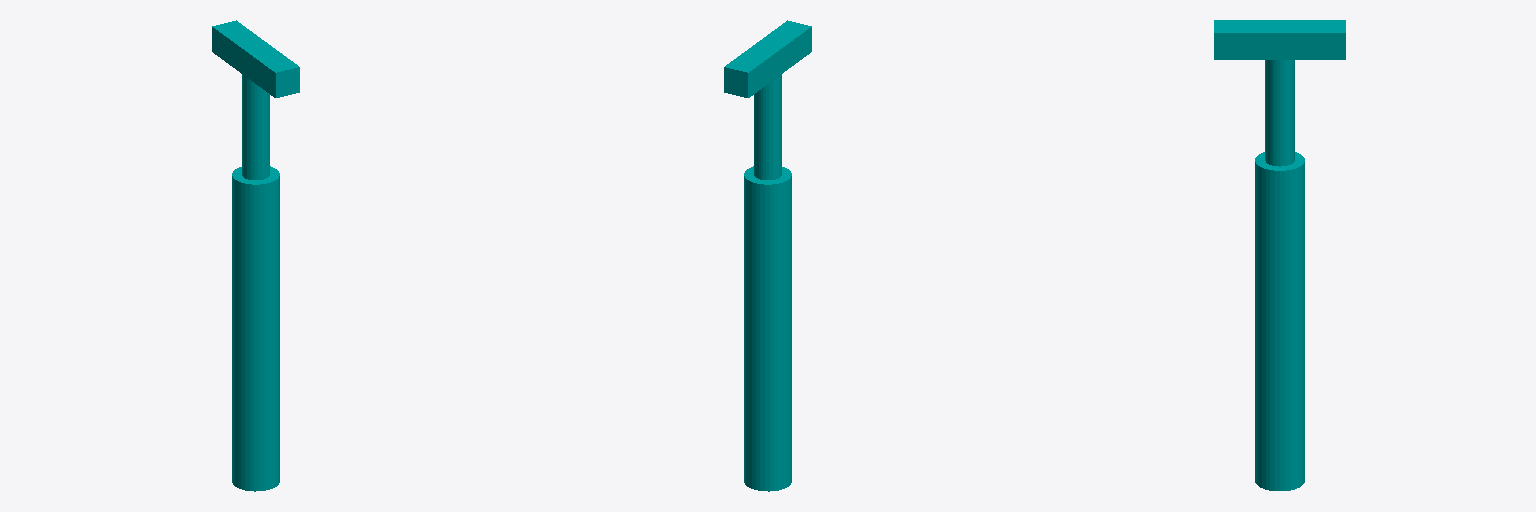
URDF robot description (ur5):
<?xml version="1.0" ?>
<!-- =================================================================================== -->
<!-- |    This document was autogenerated by xacro from my_ur5_joint_limited_robot.urdf.xacro | -->
<!-- |    EDITING THIS FILE BY HAND IS NOT RECOMMENDED                                 | -->
<!-- =================================================================================== -->
<robot name="ur5" xmlns:xacro="http://wiki.ros.org/xacro">
  <gazebo>
    <plugin filename="libgazebo_ros_control.so" name="ros_control">
      <!--robotNamespace>/</robotNamespace-->
      <!--robotSimType>gazebo_ros_control/DefaultRobotHWSim</robotSimType-->
    </plugin>
    <!--
    <plugin name="gazebo_ros_power_monitor_controller" filename="libgazebo_ros_power_monitor.so">
      <alwaysOn>true</alwaysOn>
      <updateRate>1.0</updateRate>
      <timeout>5</timeout>
      <powerStateTopic>power_state</powerStateTopic>
      <powerStateRate>10.0</powerStateRate>
      <fullChargeCapacity>87.78</fullChargeCapacity>     
      <dischargeRate>-474</dischargeRate>
      <chargeRate>525</chargeRate>
      <dischargeVoltage>15.52</dischargeVoltage>
      <chargeVoltage>16.41</chargeVoltage>
    </plugin>
-->
  </gazebo>

  <mujoco>
        <compiler 
        meshdir="./ur5/collision" 
        balanceinertia="true" 
        discardvisual="false" />
  </mujoco>

  <!-- measured from model -->
  <!--property name="shoulder_height" value="0.089159" /-->
  <!--property name="shoulder_offset" value="0.13585" /-->
  <!-- shoulder_offset - elbow_offset + wrist_1_length = 0.10915 -->
  <!--property name="upper_arm_length" value="0.42500" /-->
  <!--property name="elbow_offset" value="0.1197" /-->
  <!-- CAD measured -->
  <!--property name="forearm_length" value="0.39225" /-->
  <!--property name="wrist_1_length" value="0.093" /-->
  <!-- CAD measured -->
  <!--property name="wrist_2_length" value="0.09465" /-->
  <!-- In CAD this distance is 0.930, but in the spec it is 0.09465 -->
  <!--property name="wrist_3_length" value="0.0823" /-->
  <!-- manually measured -->
  <link name="base_link">
    <visual>
      <geometry>
        <mesh filename="./ur5/visual/base.dae"/>
      </geometry>
      <material name="LightGrey">
        <color rgba="0.7 0.7 0.7 1.0"/>
      </material>
    </visual>
    <collision>
      <geometry>
        <mesh filename="./ur5/collision/base.stl"/>
      </geometry>
    </collision>
    <inertial>
      <mass value="4.0"/>
      <origin rpy="0 0 0" xyz="0.0 0.0 0.0"/>
      <inertia ixx="0.00443333156" ixy="0.0" ixz="0.0" iyy="0.00443333156" iyz="0.0" izz="0.0072"/>
    </inertial>
  </link>
  <joint name="shoulder_pan_joint" type="revolute">
    <parent link="base_link"/>
    <child link="shoulder_link"/>
    <origin rpy="0.0 0.0 0.0" xyz="0.0 0.0 0.089159"/>
    <axis xyz="0 0 1"/>
    <limit effort="150.0" lower="-3.14159265359" upper="3.14159265359" velocity="3.15"/>
    <dynamics damping="0.0" friction="0.0"/>
  </joint>
  <link name="shoulder_link">
    <visual>
      <geometry>
        <mesh filename="./ur5/visual/shoulder.dae"/>
      </geometry>
      <material name="LightGrey">
        <color rgba="0.7 0.7 0.7 1.0"/>
      </material>
    </visual>
    <collision>
      <geometry>
        <mesh filename="./ur5/collision/shoulder.stl"/>
      </geometry>
    </collision>
    <inertial>
      <mass value="3.7"/>
      <origin rpy="0 0 0" xyz="0.0 0.0 0.0"/>
      <inertia ixx="0.010267495893" ixy="0.0" ixz="0.0" iyy="0.010267495893" iyz="0.0" izz="0.00666"/>
    </inertial>
  </link>
  <joint name="shoulder_lift_joint" type="revolute">
    <parent link="shoulder_link"/>
    <child link="upper_arm_link"/>
    <origin rpy="0.0 1.57079632679 0.0" xyz="0.0 0.13585 0.0"/>
    <axis xyz="0 1 0"/>
    <limit effort="150.0" lower="-3.14159265359" upper="3.14159265359" velocity="3.15"/>
    <dynamics damping="0.0" friction="0.0"/>
  </joint>
  <link name="upper_arm_link">
    <visual>
      <geometry>
        <mesh filename="./ur5/visual/upperarm.dae"/>
      </geometry>
      <material name="LightGrey">
        <color rgba="0.7 0.7 0.7 1.0"/>
      </material>
    </visual>
    <collision>
      <geometry>
        <mesh filename="./ur5/collision/upperarm.stl"/>
      </geometry>
    </collision>
    <inertial>
      <mass value="8.393"/>
      <origin rpy="0 0 0" xyz="0.0 0.0 0.28"/>
      <inertia ixx="0.22689067591" ixy="0.0" ixz="0.0" iyy="0.22689067591" iyz="0.0" izz="0.0151074"/>
    </inertial>
  </link>
  <joint name="elbow_joint" type="revolute">
    <parent link="upper_arm_link"/>
    <child link="forearm_link"/>
    <origin rpy="0.0 0.0 0.0" xyz="0.0 -0.1197 0.425"/>
    <axis xyz="0 1 0"/>
    <limit effort="150.0" lower="-3.14159265359" upper="3.14159265359" velocity="3.15"/>
    <dynamics damping="0.0" friction="0.0"/>
  </joint>
  <link name="forearm_link">
    <visual>
      <geometry>
        <mesh filename="./ur5/visual/forearm.dae"/>
      </geometry>
      <material name="LightGrey">
        <color rgba="0.7 0.7 0.7 1.0"/>
      </material>
    </visual>
    <collision>
      <geometry>
        <mesh filename="./ur5/collision/forearm.stl"/>
      </geometry>
    </collision>
    <inertial>
      <mass value="2.275"/>
      <origin rpy="0 0 0" xyz="0.0 0.0 0.196125"/>
      <inertia ixx="0.0312167910289" ixy="0.0" ixz="0.0" iyy="0.0312167910289" iyz="0.0" izz="0.004095"/>
    </inertial>
  </link>
  <joint name="wrist_1_joint" type="revolute">
    <parent link="forearm_link"/>
    <child link="wrist_1_link"/>
    <origin rpy="0.0 1.57079632679 0.0" xyz="0.0 0.0 0.39225"/>
    <axis xyz="0 1 0"/>
    <limit effort="28.0" lower="-3.14159265359" upper="3.14159265359" velocity="3.2"/>
    <dynamics damping="0.0" friction="0.0"/>
  </joint>
  <link name="wrist_1_link">
    <visual>
      <geometry>
        <mesh filename="./ur5/visual/wrist1.dae"/>
      </geometry>
      <material name="LightGrey">
        <color rgba="0.7 0.7 0.7 1.0"/>
      </material>
    </visual>
    <collision>
      <geometry>
        <mesh filename="./ur5/collision/wrist1.stl"/>
      </geometry>
    </collision>
    <inertial>
      <mass value="1.219"/>
      <origin rpy="0 0 0" xyz="0.0 0.093 0.0"/>
      <inertia ixx="0.00255989897604" ixy="0.0" ixz="0.0" iyy="0.00255989897604" iyz="0.0" izz="0.0021942"/>
    </inertial>
  </link>
  <joint name="wrist_2_joint" type="revolute">
    <parent link="wrist_1_link"/>
    <child link="wrist_2_link"/>
    <origin rpy="0.0 0.0 0.0" xyz="0.0 0.093 0.0"/>
    <axis xyz="0 0 1"/>
    <limit effort="28.0" lower="-3.14159265359" upper="3.14159265359" velocity="3.2"/>
    <dynamics damping="0.0" friction="0.0"/>
  </joint>
  <link name="wrist_2_link">
    <visual>
      <geometry>
        <mesh filename="./ur5/visual/wrist2.dae"/>
      </geometry>
      <material name="LightGrey">
        <color rgba="0.7 0.7 0.7 1.0"/>
      </material>
    </visual>
    <collision>
      <geometry>
        <mesh filename="./ur5/collision/wrist2.stl"/>
      </geometry>
    </collision>
    <inertial>
      <mass value="1.219"/>
      <origin rpy="0 0 0" xyz="0.0 0.0 0.09465"/>
      <inertia ixx="0.00255989897604" ixy="0.0" ixz="0.0" iyy="0.00255989897604" iyz="0.0" izz="0.0021942"/>
    </inertial>
  </link>
  <joint name="wrist_3_joint" type="revolute">
    <parent link="wrist_2_link"/>
    <child link="wrist_3_link"/>
    <origin rpy="0.0 0.0 0.0" xyz="0.0 0.0 0.09465"/>
    <axis xyz="0 1 0"/>
    <limit effort="28.0" lower="-3.14159265359" upper="3.14159265359" velocity="3.2"/>
    <dynamics damping="0.0" friction="0.0"/>
  </joint>
  <link name="wrist_3_link">
    <visual>
      <geometry>
        <mesh filename="./ur5/visual/wrist3.dae"/>
      </geometry>
      <material name="LightGrey">
        <color rgba="0.7 0.7 0.7 1.0"/>
      </material>
    </visual>
    <collision>
      <geometry>
        <mesh filename="./ur5/collision/wrist3.stl"/>
      </geometry>
    </collision>
    <inertial>
      <mass value="0.1879"/>
      <origin rpy="1.57079632679 0 0" xyz="0.0 0.06505 0.0"/>
      <inertia ixx="8.46958911216e-05" ixy="0.0" ixz="0.0" iyy="8.46958911216e-05" iyz="0.0" izz="0.0001321171875"/>
    </inertial>
  </link>
  <joint name="ee_fixed_joint" type="fixed">
    <parent link="wrist_3_link"/>
    <child link="ee_link"/>
    <origin rpy="0.0 0.0 1.57079632679" xyz="0.0 0.0823 0.0"/>
  </joint>
  <link name="ee_link">
    <collision>
      <geometry>
        <box size="0.01 0.01 0.01"/>
      </geometry>
      <origin rpy="0 0 0" xyz="-0.01 0 0"/>
    </collision>
  </link>
  <transmission name="shoulder_pan_trans">
    <type>transmission_interface/SimpleTransmission</type>
    <joint name="shoulder_pan_joint">
      <hardwareInterface>hardware_interface/PositionJointInterface</hardwareInterface>
    </joint>
    <actuator name="shoulder_pan_motor">
      <mechanicalReduction>1</mechanicalReduction>
    </actuator>
  </transmission>
  <transmission name="shoulder_lift_trans">
    <type>transmission_interface/SimpleTransmission</type>
    <joint name="shoulder_lift_joint">
      <hardwareInterface>hardware_interface/PositionJointInterface</hardwareInterface>
    </joint>
    <actuator name="shoulder_lift_motor">
      <mechanicalReduction>1</mechanicalReduction>
    </actuator>
  </transmission>
  <transmission name="elbow_trans">
    <type>transmission_interface/SimpleTransmission</type>
    <joint name="elbow_joint">
      <hardwareInterface>hardware_interface/PositionJointInterface</hardwareInterface>
    </joint>
    <actuator name="elbow_motor">
      <mechanicalReduction>1</mechanicalReduction>
    </actuator>
  </transmission>
  <transmission name="wrist_1_trans">
    <type>transmission_interface/SimpleTransmission</type>
    <joint name="wrist_1_joint">
      <hardwareInterface>hardware_interface/PositionJointInterface</hardwareInterface>
    </joint>
    <actuator name="wrist_1_motor">
      <mechanicalReduction>1</mechanicalReduction>
    </actuator>
  </transmission>
  <transmission name="wrist_2_trans">
    <type>transmission_interface/SimpleTransmission</type>
    <joint name="wrist_2_joint">
      <hardwareInterface>hardware_interface/PositionJointInterface</hardwareInterface>
    </joint>
    <actuator name="wrist_2_motor">
      <mechanicalReduction>1</mechanicalReduction>
    </actuator>
  </transmission>
  <transmission name="wrist_3_trans">
    <type>transmission_interface/SimpleTransmission</type>
    <joint name="wrist_3_joint">
      <hardwareInterface>hardware_interface/PositionJointInterface</hardwareInterface>
    </joint>
    <actuator name="wrist_3_motor">
      <mechanicalReduction>1</mechanicalReduction>
    </actuator>
  </transmission>
  <gazebo reference="shoulder_link">
    <selfCollide>true</selfCollide>
  </gazebo>
  <gazebo reference="upper_arm_link">
    <selfCollide>true</selfCollide>
  </gazebo>
  <gazebo reference="forearm_link">
    <selfCollide>true</selfCollide>
  </gazebo>
  <gazebo reference="wrist_1_link">
    <selfCollide>true</selfCollide>
  </gazebo>
  <gazebo reference="wrist_3_link">
    <selfCollide>true</selfCollide>
  </gazebo>
  <gazebo reference="wrist_2_link">
    <selfCollide>true</selfCollide>
  </gazebo>
  <gazebo reference="ee_link">
    <selfCollide>true</selfCollide>
  </gazebo>
  <!-- ROS base_link to UR 'Base' Coordinates transform -->
  <link name="base"/>
  <joint name="base_link-base_fixed_joint" type="fixed">
    <!-- NOTE: this rotation is only needed as long as base_link itself is
                 not corrected wrt the real robot (ie: rotated over 180
                 degrees)
      -->
    <origin rpy="0 0 -3.14159265359" xyz="0 0 0"/>
    <parent link="base_link"/>
    <child link="base"/>
  </joint>
  <!-- Frame coincident with all-zeros TCP on UR controller -->
  <link name="tool0"/>
  <joint name="wrist_3_link-tool0_fixed_joint" type="fixed">
    <origin rpy="-1.57079632679 0 0" xyz="0 0.0823 0"/>
    <parent link="wrist_3_link"/>
    <child link="tool0"/>
  </joint>
  <link name="world"/>
  <link name="base_support_cylinder_link">
    <visual>
      <geometry>
        <cylinder length="1.2" radius="0.085"/>
      </geometry>
      <material name="LightGrey">
        <color rgba="0 0.7 0.7 1.0"/>
      </material>
    </visual>
    <collision>
      <geometry>
        <cylinder length="1.2" radius="0.05"/>
      </geometry>
    </collision>
  </link>
  <link name="base_support_cylinder_link_2">
    <visual>
      <geometry>
        <cylinder length="0.4" radius="0.05"/>
      </geometry>
      <material name="LightGrey">
        <color rgba="0 0.7 0.7 1.0"/>
      </material>
    </visual>
    <collision>
      <geometry>
        <cylinder length="0.4" radius="0.05"/>
      </geometry>
    </collision>
  </link>
  <link name="base_support_box_link">
    <visual>
      <geometry>
        <box size="0.1 0.45 0.1"/>
      </geometry>
      <material name="LightGrey">
        <color rgba="0 0.7 0.7 1.0"/>
      </material>
    </visual>
    <collision>
      <geometry>
        <box size="0.1 0.40 0.1"/>
      </geometry>
    </collision>
  </link>
  <link name="world_link">

  </link>
  <joint name="world_joint" type="fixed">
    <parent link="world"/>
    <child link="base_support_cylinder_link"/>
    <origin rpy="0.0 0.0 0.0" xyz="0.0 0.0 0.6"/>
  </joint>
  <joint name="cylinde_cylinder_link" type="fixed">
    <parent link="base_support_cylinder_link"/>
    <child link="base_support_cylinder_link_2"/>
    <origin rpy="0.0 0.0 0.0" xyz="0.0 0.0 0.8"/>
  </joint>
  <joint name="box_cylinder_link" type="fixed">
    <parent link="base_support_cylinder_link_2"/>
    <child link="base_support_box_link"/>
    <origin rpy="0.0 0.0 0.0" xyz="0.0 0.0 0.25"/>
  </joint>
  <joint name="base_world_joint" type="fixed">
    <parent link="base_support_box_link"/>
    <child link="world_link"/>
    <origin rpy="0.0 0.0 -1.5708" xyz="0.0 0.25 0.0"/>
  </joint>
  <joint name="base_support_joint_L" type="fixed">
    <parent link="world_link"/>
    <child link="base_link"/>
    <origin rpy="-0.61548 -2.61799 0.955316" xyz="0.0 0.0 0.0"/>
  </joint>
</robot>

--- What the picture shows (computed from the rendered views, not written in the file) ---
Views: 3 orthographic renders of the robot side by side, from view 1: azimuth 30°, elevation 25°; view 2: azimuth 150°, elevation 25°; view 3: azimuth 270°, elevation 25°.
Model ur5 with 15 links and 14 joints (6 revolute, 8 fixed), rooted at world, posed every joint at zero.
Visible links, largest first — view 1: base_support_cylinder_link, base_support_box_link, base_support_cylinder_link_2; view 2: base_support_cylinder_link, base_support_box_link, base_support_cylinder_link_2; view 3: base_support_cylinder_link, base_support_box_link, base_support_cylinder_link_2.
Link boxes in pixels (x1,y1,x2,y2): base_support_cylinder_link: [232, 166, 279, 491]; base_support_box_link: [212, 20, 299, 97]; base_support_cylinder_link_2: [242, 74, 269, 179]; base_support_cylinder_link: [744, 166, 791, 491]; base_support_box_link: [724, 20, 811, 97]; base_support_cylinder_link_2: [754, 74, 781, 179]; base_support_cylinder_link: [1255, 152, 1304, 490]; base_support_box_link: [1214, 20, 1345, 59]; base_support_cylinder_link_2: [1265, 60, 1294, 166].
Bounding box of the posed robot: 0.17 × 0.45 × 1.7 m (x, y, z).
0 mesh visuals loaded from 7 distinct referenced files (none loaded); not drawn: 7 (reference not matched to a file when rendering).